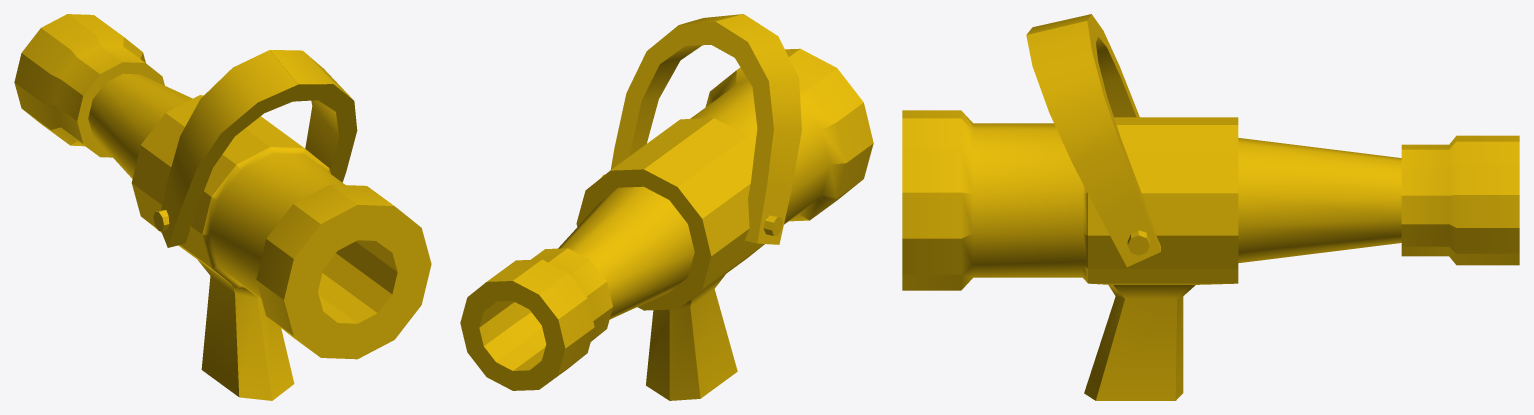
Rendered from hose_head.fbx.
3 views of the same model, side by side, from view 1: azimuth 30°, elevation 25°; view 2: azimuth 150°, elevation 25°; view 3: azimuth 270°, elevation 25° (orthographic). The views are drawn at different scales.
Parts seen in each view (by area): view 1: h_head_mesh; view 2: h_head_mesh; view 3: h_head_mesh.
Boxes of the visible parts, left/top/right/bottom form: h_head_mesh: left=14, top=14, right=431, bottom=400; h_head_mesh: left=460, top=14, right=873, bottom=400; h_head_mesh: left=902, top=14, right=1519, bottom=400.
Size of the model in its own units: 0.8928 by 1.7 by 2.56.
